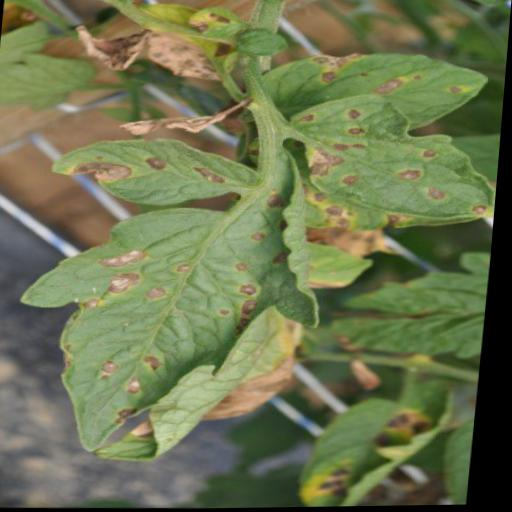Septoria: (8, 131, 348, 466), (277, 94, 504, 232), (299, 372, 477, 508), (259, 47, 502, 136)
